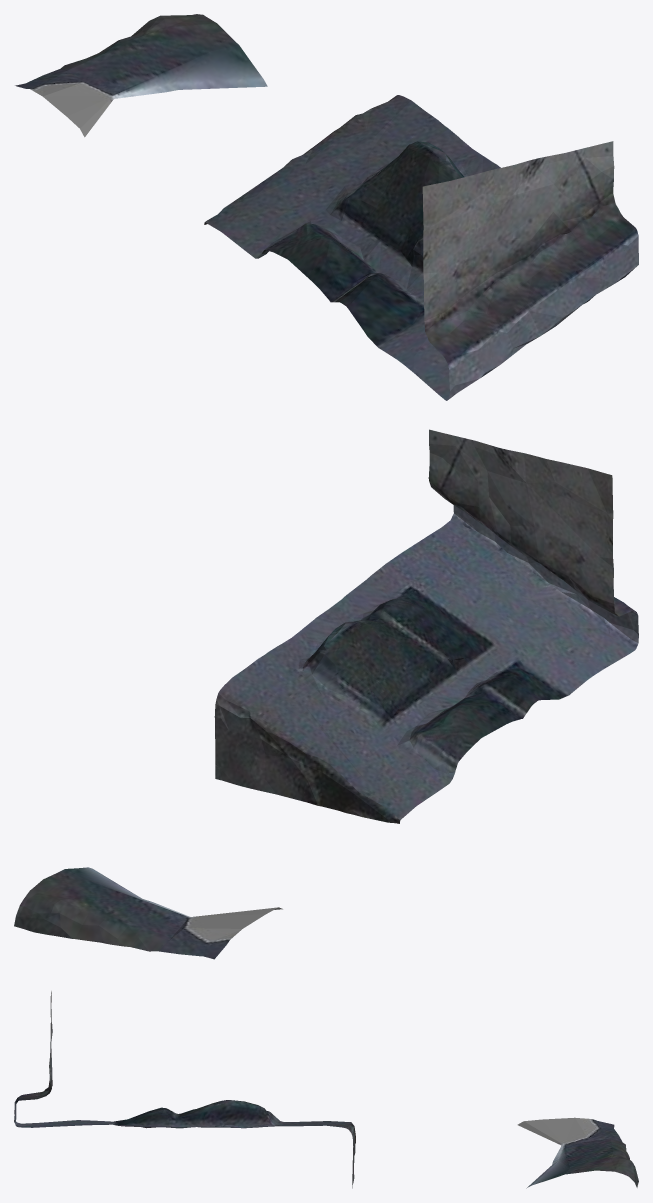
The model's file is Tile_+003_+007_L23_003212.obj.
3 views of the same model, one above another, from view 1: azimuth 30°, elevation 25°; view 2: azimuth 150°, elevation 25°; view 3: azimuth 270°, elevation 25° (orthographic). The views are drawn at different scales.
Bounding box in the file's own units: 1.91 × 1.91 × 7.91.
1 material, 1 textured.
